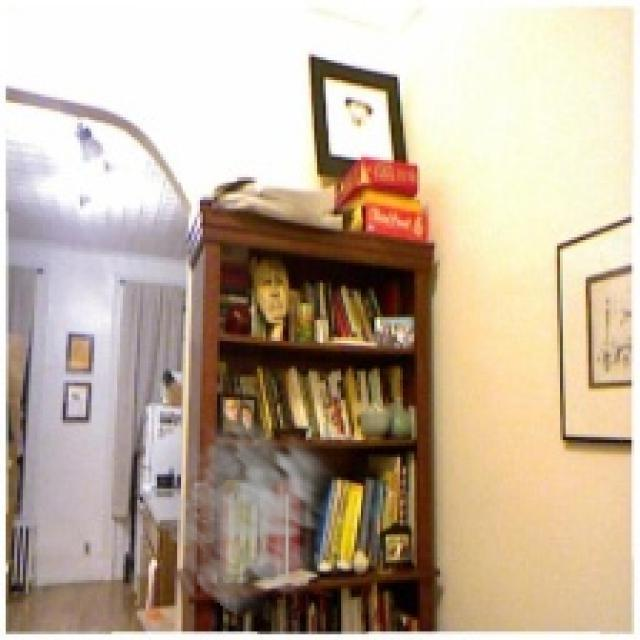Smoke: (160, 406, 360, 626)
